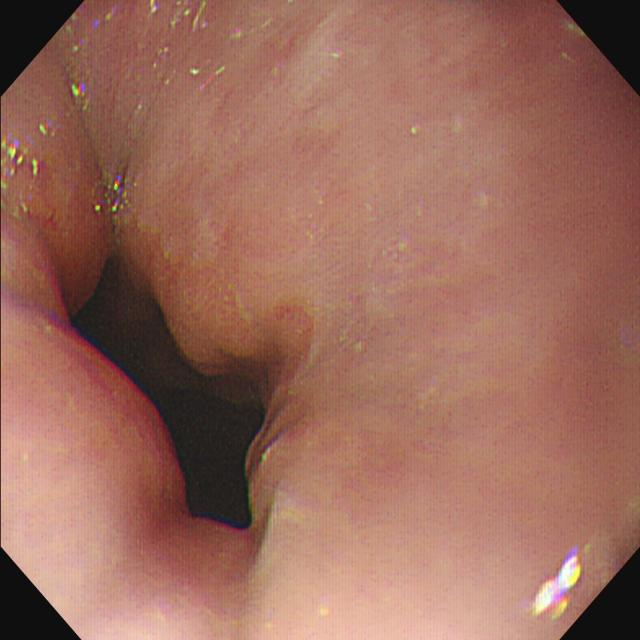E: (69, 250, 258, 535)
U: (533, 554, 587, 622)
